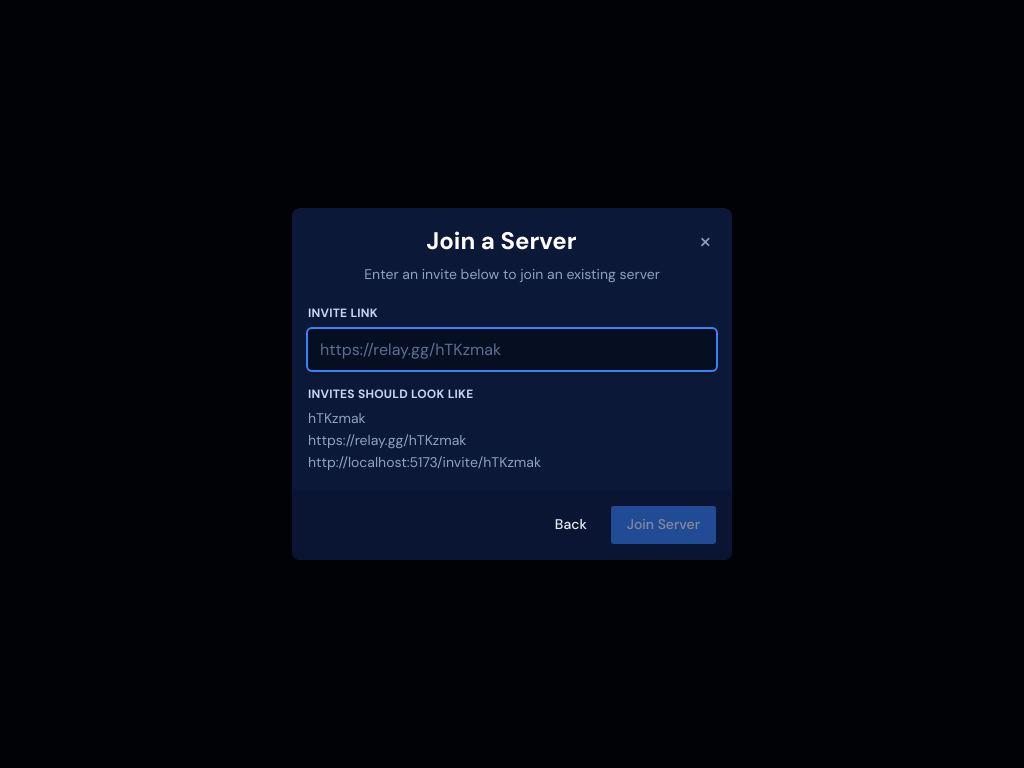
Test case: JoinGuildModal › enables Join button when input has text
This screenshot has width=1024, height=768.
Type "abc123" into the field labelled "INVITE LINK". click: [512, 350]
box: [308,329,716,370]
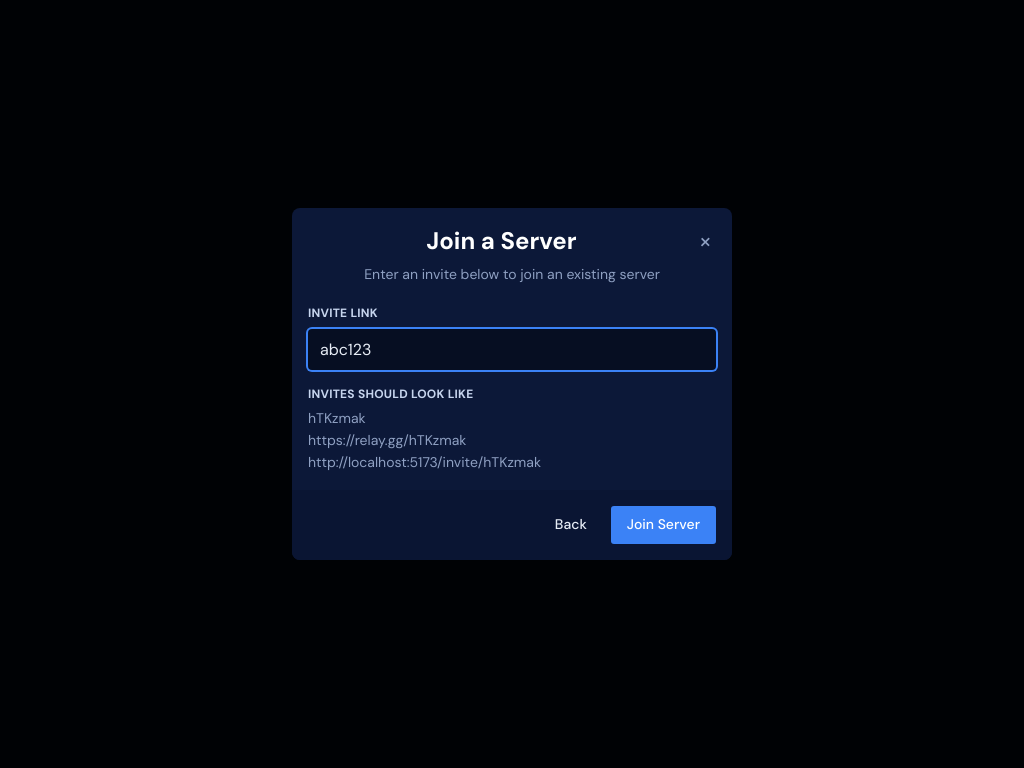
Result: the button "Join Server" is enabled at [611,506,716,544]
